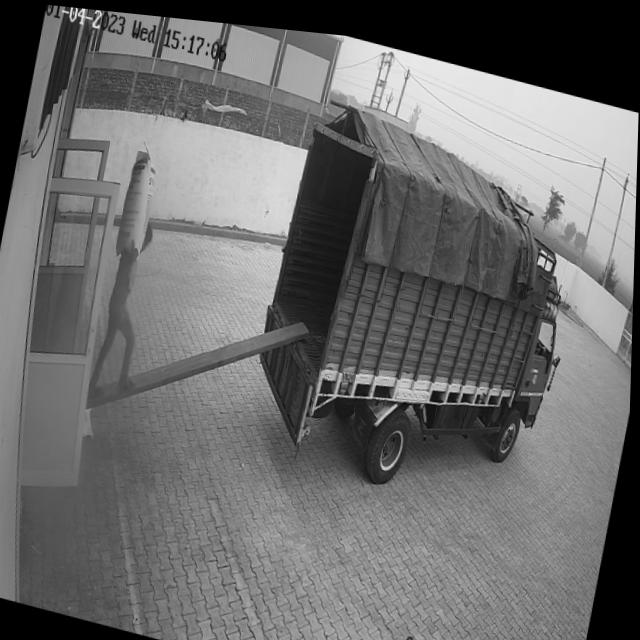sack: (115, 144, 163, 262)
